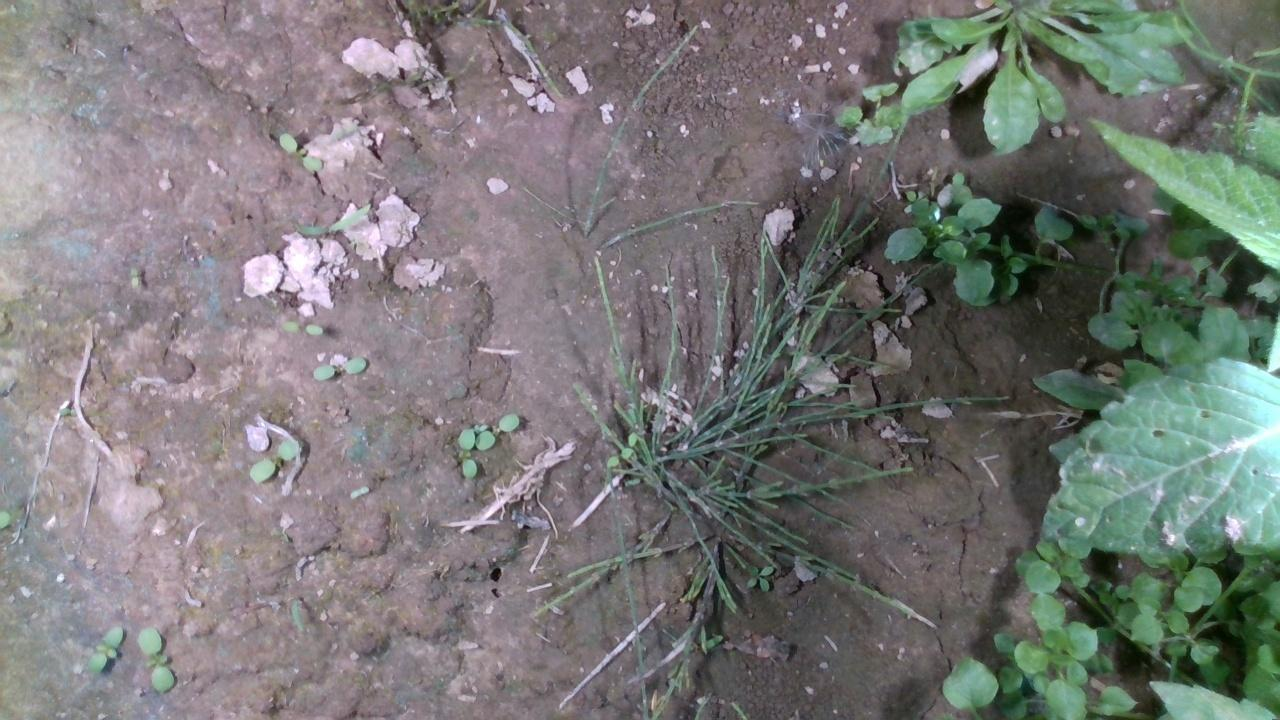weed: (136, 624, 174, 692), (247, 438, 297, 482), (85, 623, 123, 673), (276, 131, 323, 170), (311, 354, 367, 379), (279, 319, 323, 336)
